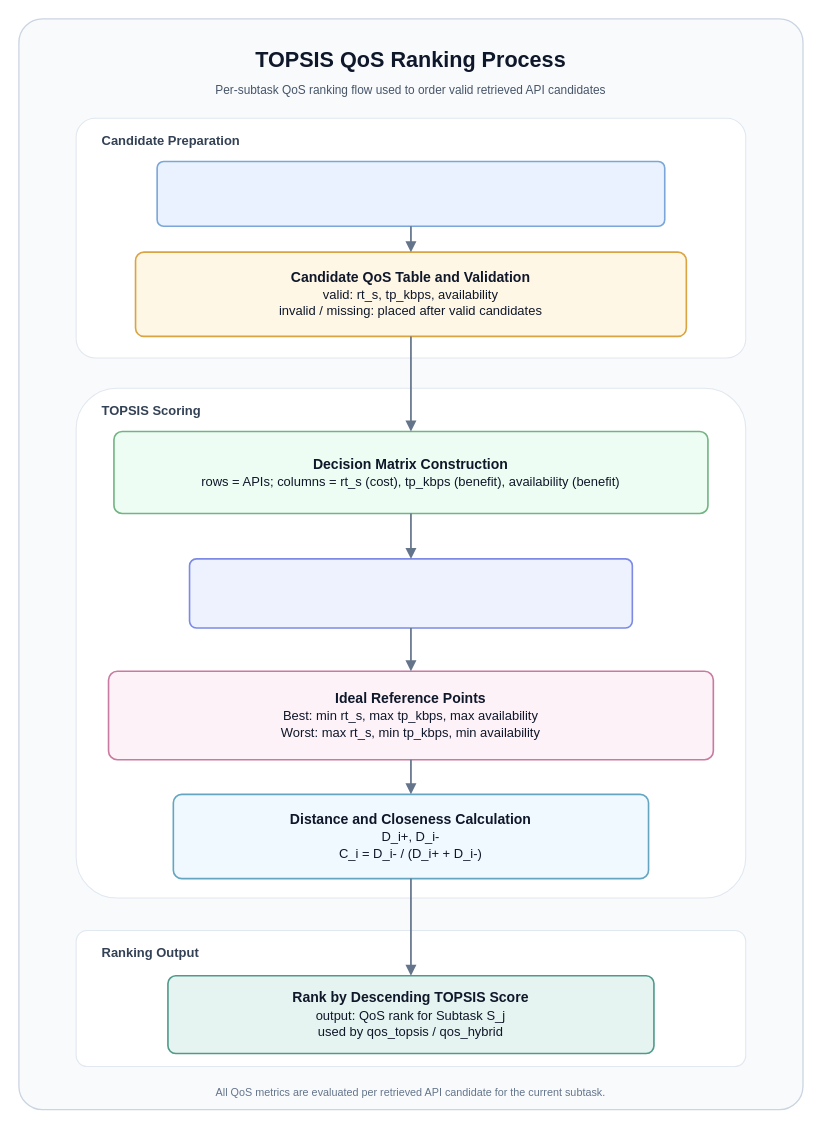
This 823x1130 diagram has some shape labels left out. Here are the shapes that lost their labels. From the top down, the centre of each, then its label:
At point 410,193: "Retrieved APIs for Subtask S_j after decomposition and retrieval".
At point 410,593: "Normalize and Weight Matrix w = (1/3, 1/3, 1/3)".
